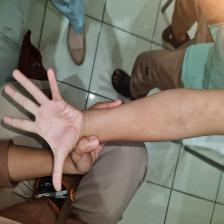DA: (131, 110, 158, 138), (204, 92, 224, 121)
